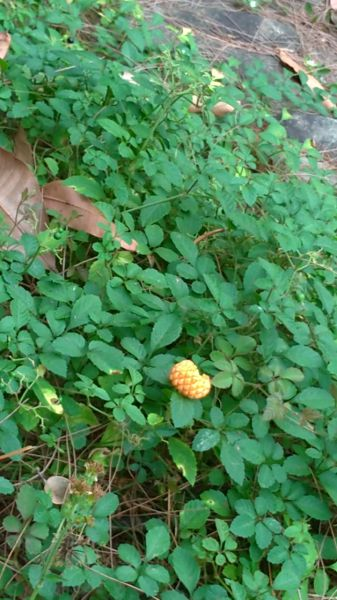eggs: (167, 356, 214, 406)
